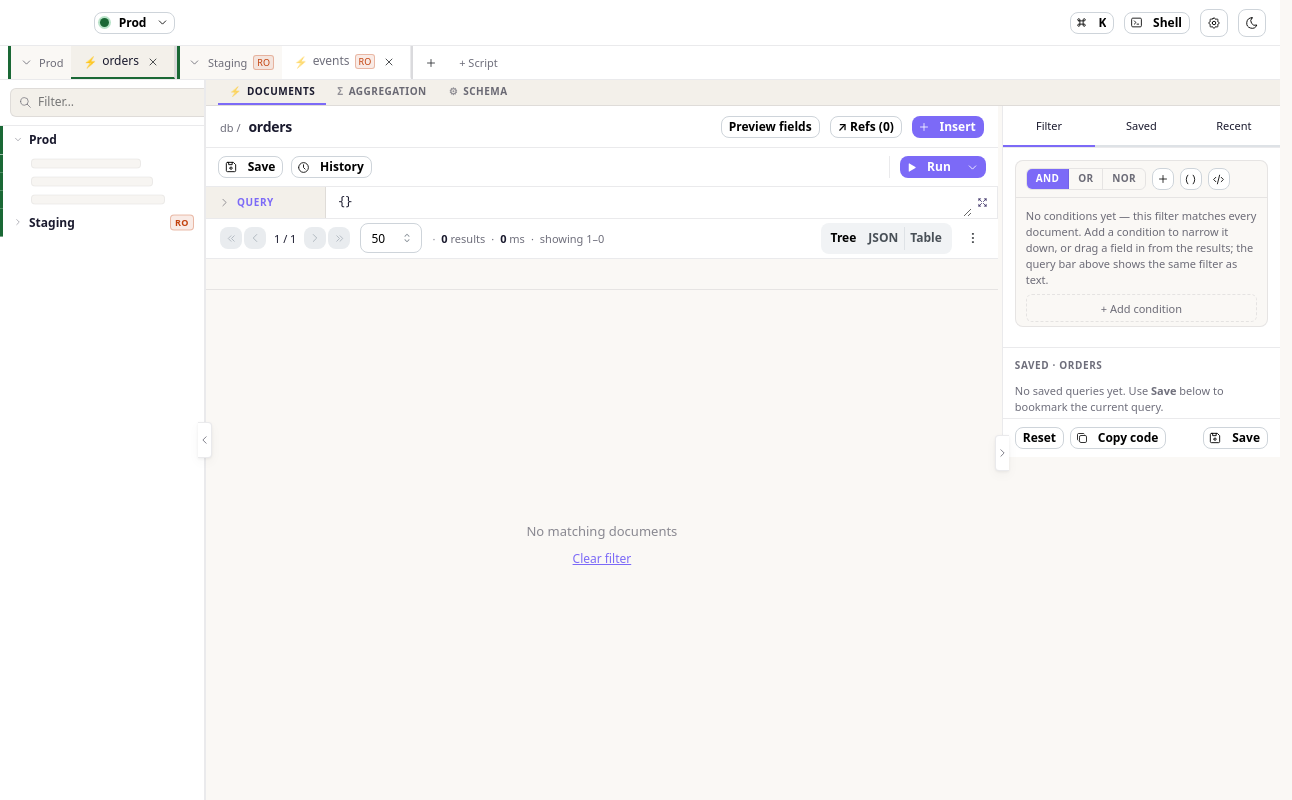
Test: The Focused Tab’s Connection › moves the read-only marker with the Focused Tab
Expected: the button "Prod" is shown, [119,12,146,32]
Click the text "events".
click(331, 62)  # box [313,52,350,71]
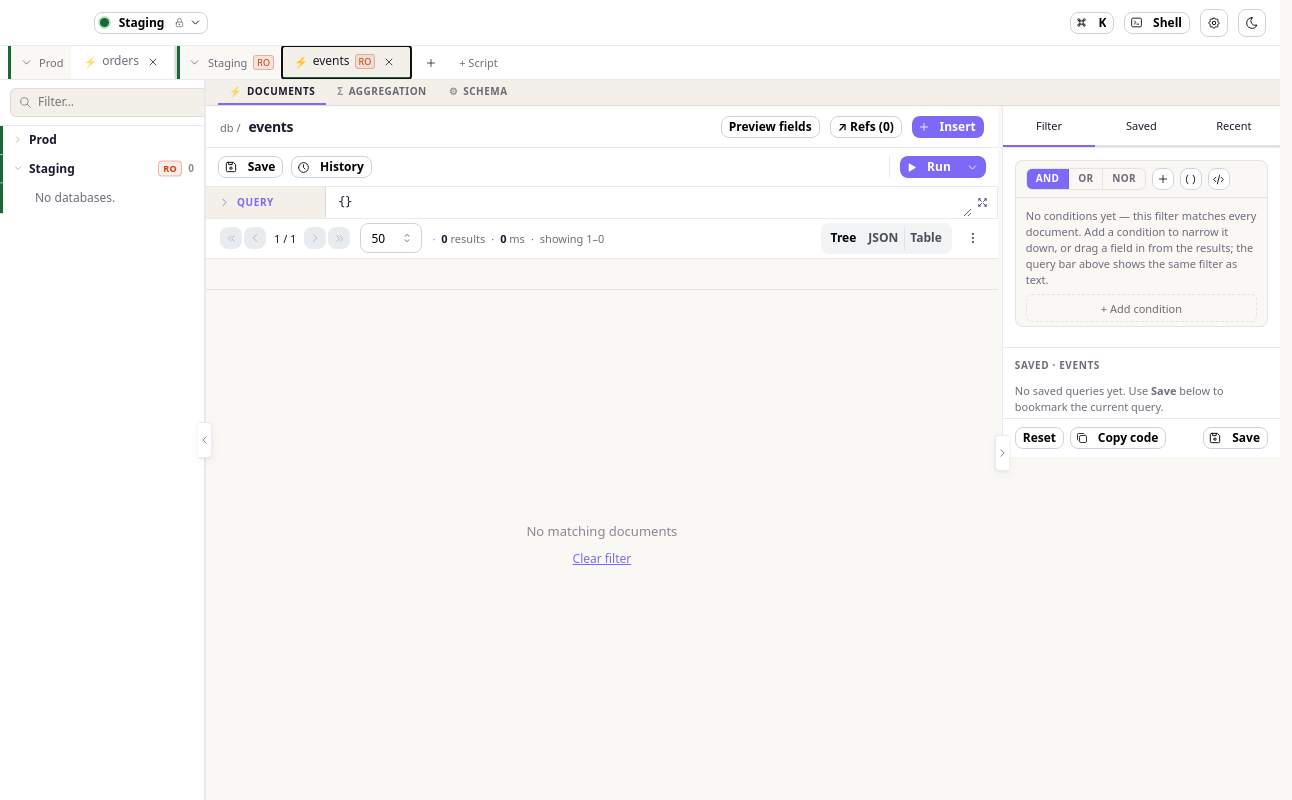
Expected: the button "Staging" is shown, [119,12,164,32]
Expected: the element titled "Read-only connection" is shown, [174,17,186,28]
